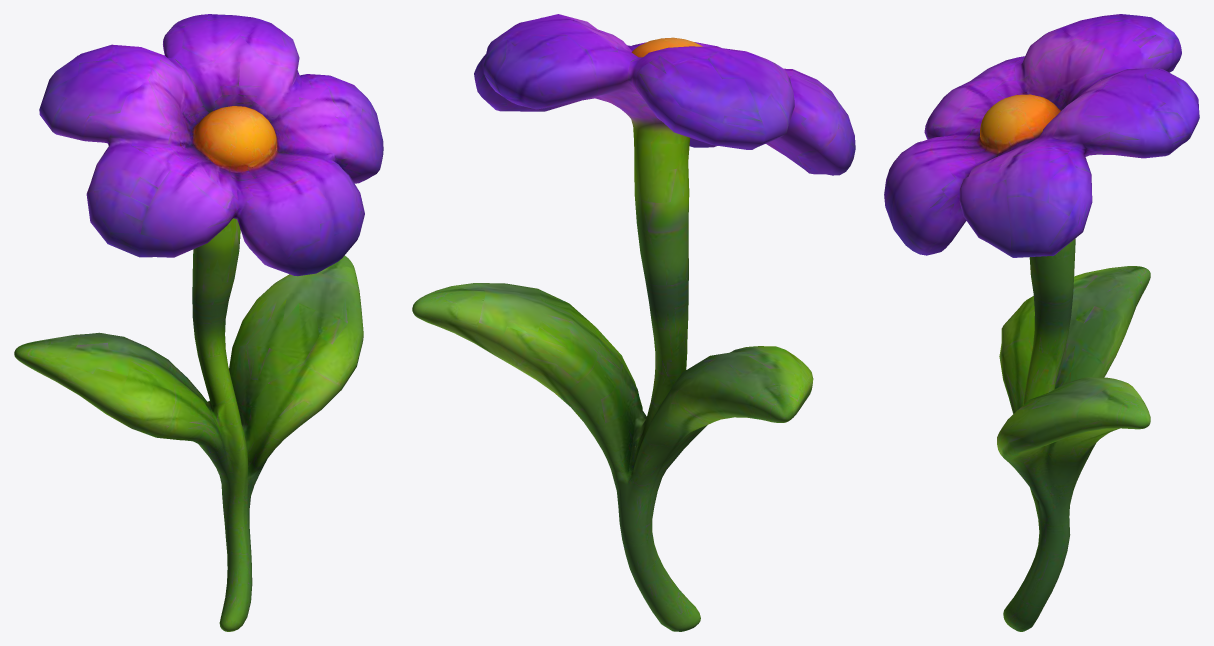
3 views of the same model, side by side, from view 1: azimuth 30°, elevation 25°; view 2: azimuth 150°, elevation 25°; view 3: azimuth 270°, elevation 25° (orthographic). The views are drawn at different scales.
Bounding box in the file's own units: 1.2 × 1.91 × 0.9521.
1 material, 1 textured.
